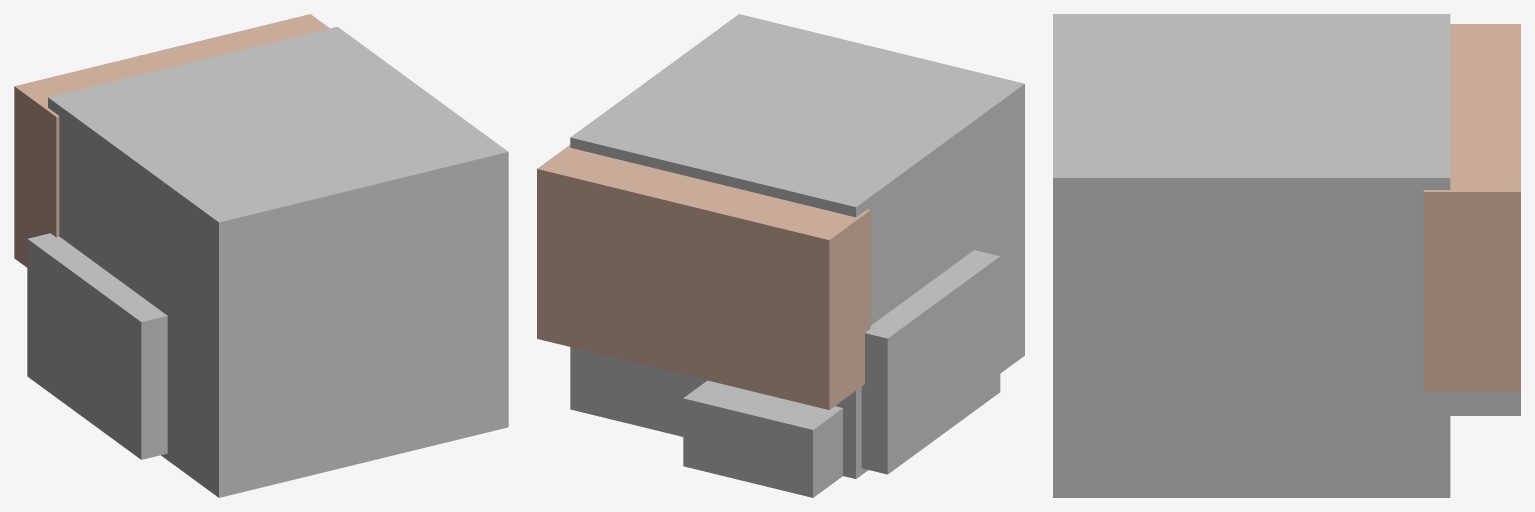
Rendered from fist2_R.obj.
3 views of the same model, side by side, from view 1: azimuth 30°, elevation 25°; view 2: azimuth 150°, elevation 25°; view 3: azimuth 270°, elevation 25° (orthographic). The views are drawn at different scales.
Visible parts, largest first — view 1: part0, part2, part1; view 2: part0, part1, part2, part3; view 3: part0, part1, part3.
Boxes of the visible parts, x1,y1,x2,y2 form: part0: (48,27,508,497); part2: (27,233,167,459); part1: (14,14,329,267); part0: (570,14,1024,478); part1: (537,145,870,409); part2: (861,250,1000,474); part3: (683,380,842,497); part0: (1053,14,1450,497); part1: (1423,24,1520,391); part3: (1450,392,1520,415).
Size of the model in its own units: 0.097 by 0.08 by 0.106.
